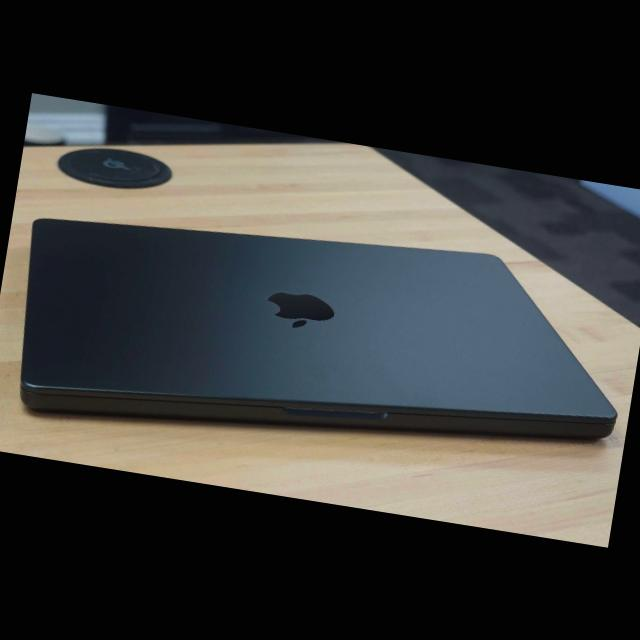laptop: (0, 178, 640, 505)
